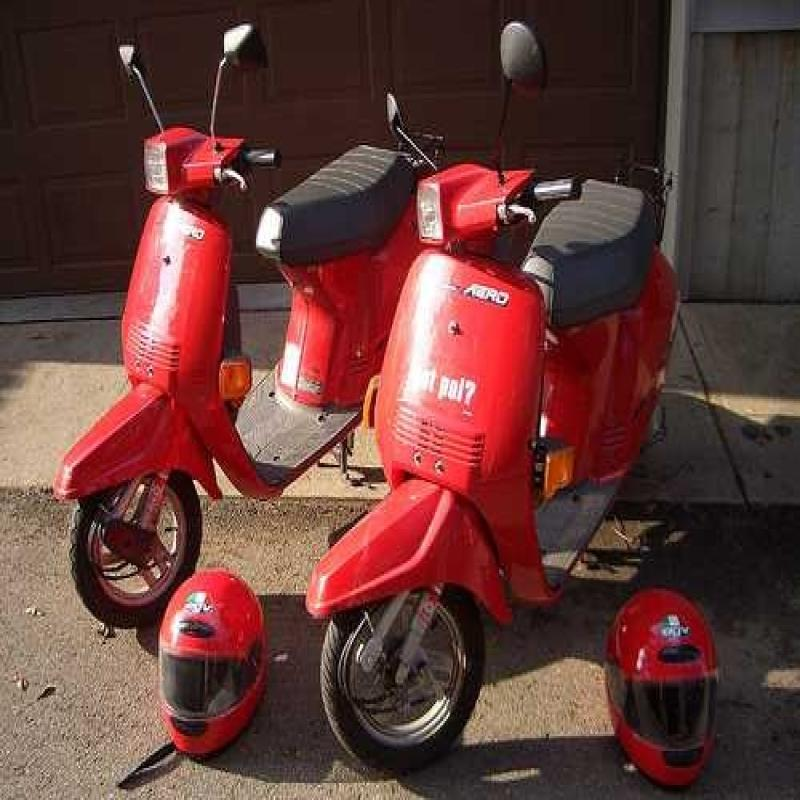bike: (48, 32, 420, 644), (328, 109, 664, 735)
